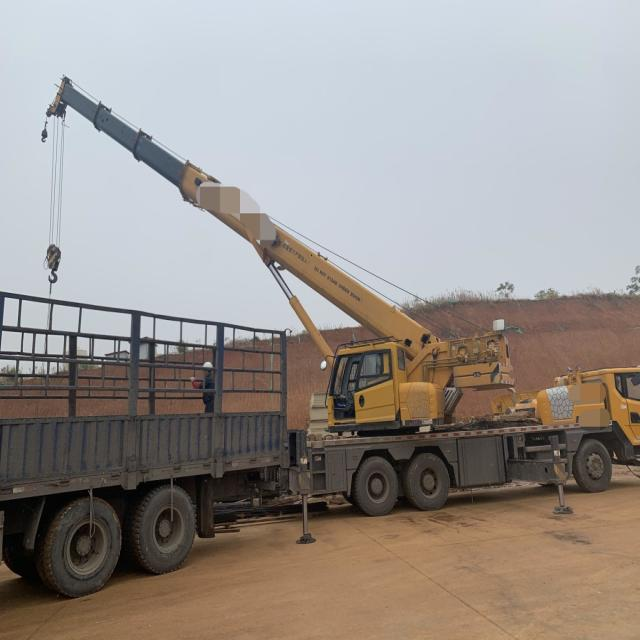crane: (46, 76, 640, 544)
truck: (0, 291, 290, 597)
